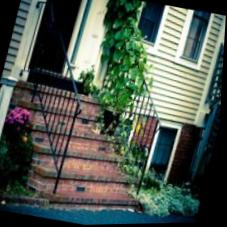Bench: (44, 140, 157, 216)
